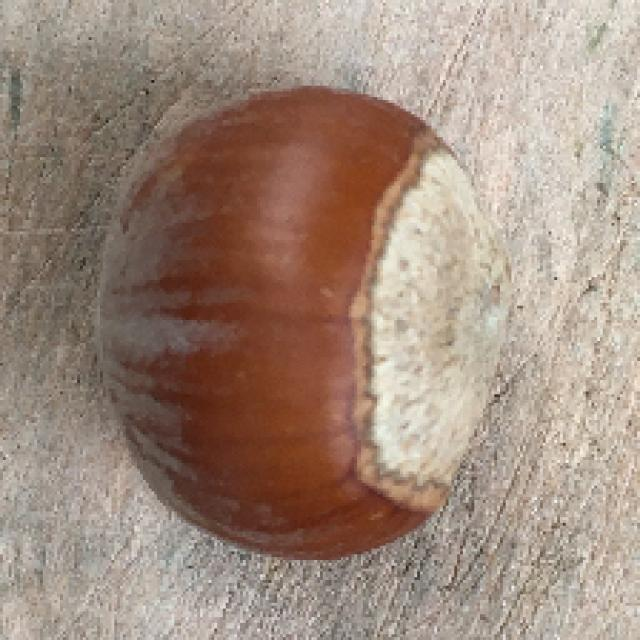qualityHazelnut: (99, 83, 507, 569)
